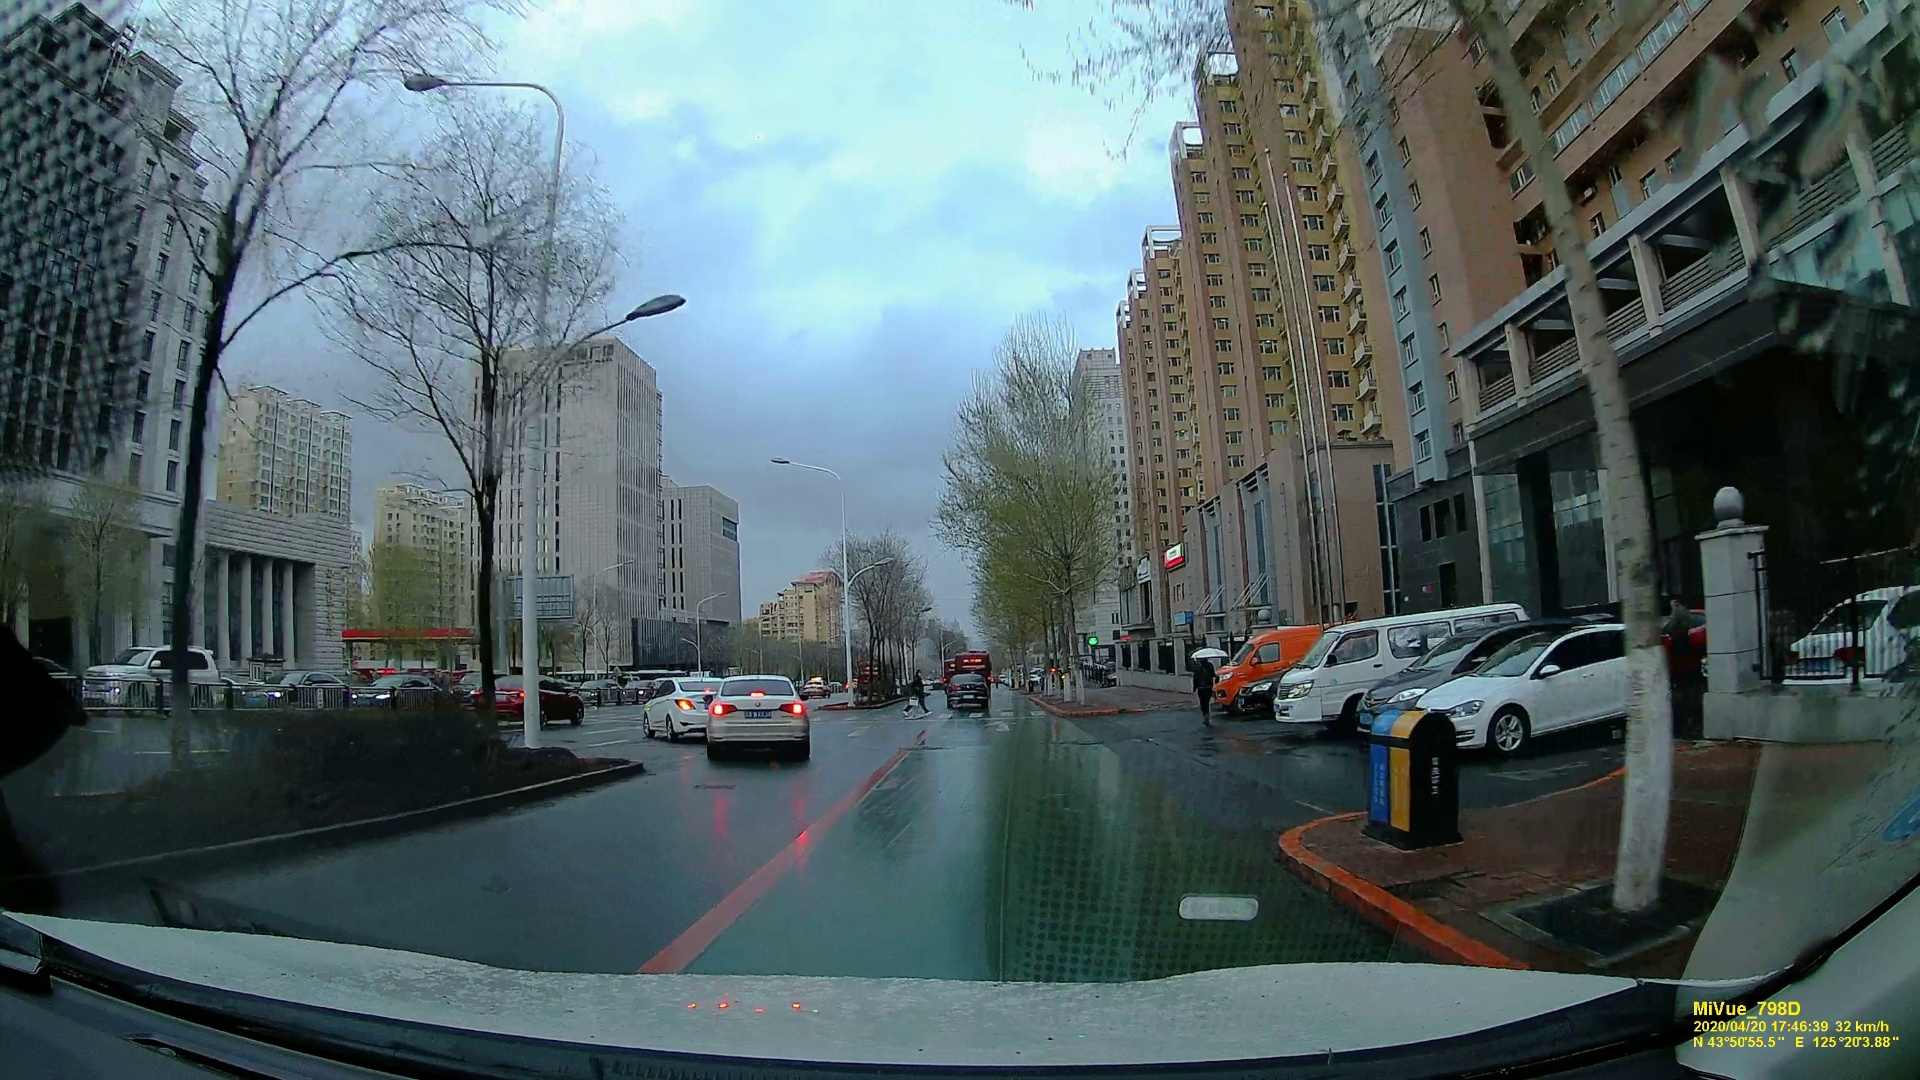minibus: (1272, 617, 1389, 732), (1212, 629, 1277, 715)
person: (1188, 648, 1217, 731), (900, 663, 928, 717)
vehicle: (1417, 624, 1623, 749), (699, 673, 810, 761), (476, 675, 581, 728), (641, 676, 710, 739), (943, 674, 989, 710)
